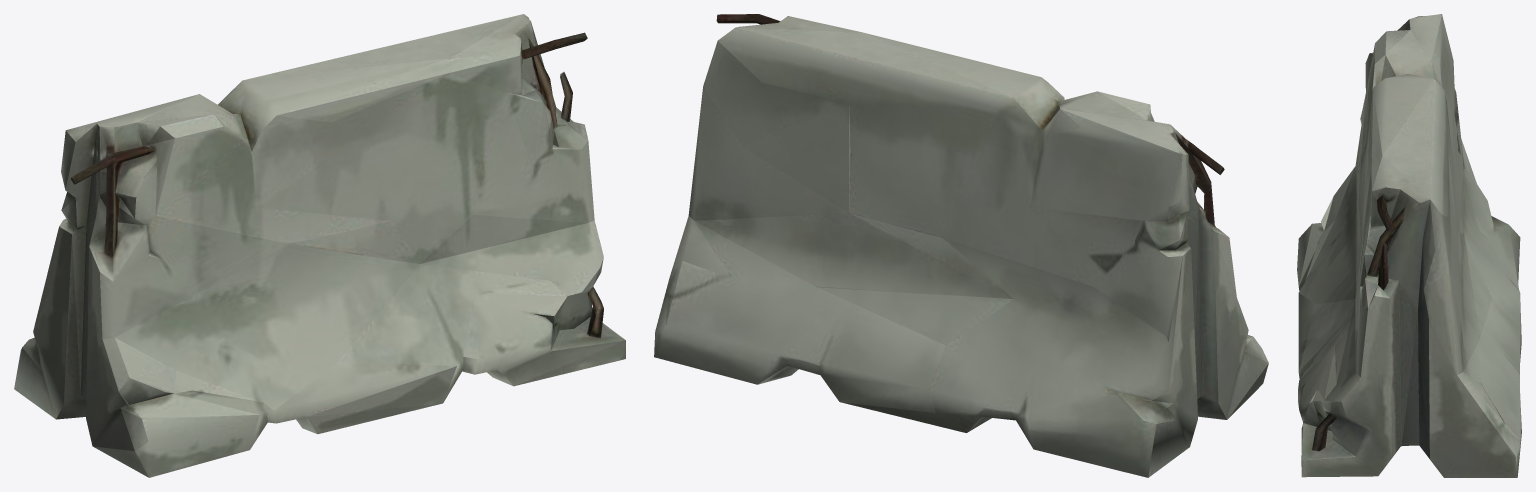
The model's file is prop_barrier.glb.
The picture shows the model from 3 angles, left to right: view 1: azimuth 30°, elevation 25°; view 2: azimuth 150°, elevation 25°; view 3: azimuth 270°, elevation 25°; orthographic projection. The views are drawn at different scales.
Size of the model in its own units: 1.9 by 1.07 by 0.8203.
Materials: 1 (1 with a texture image).
